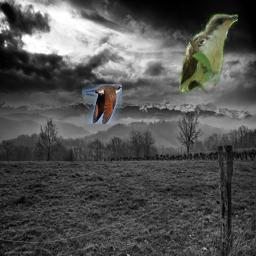Cuckoo: (179, 13, 238, 93), (82, 84, 122, 124)
